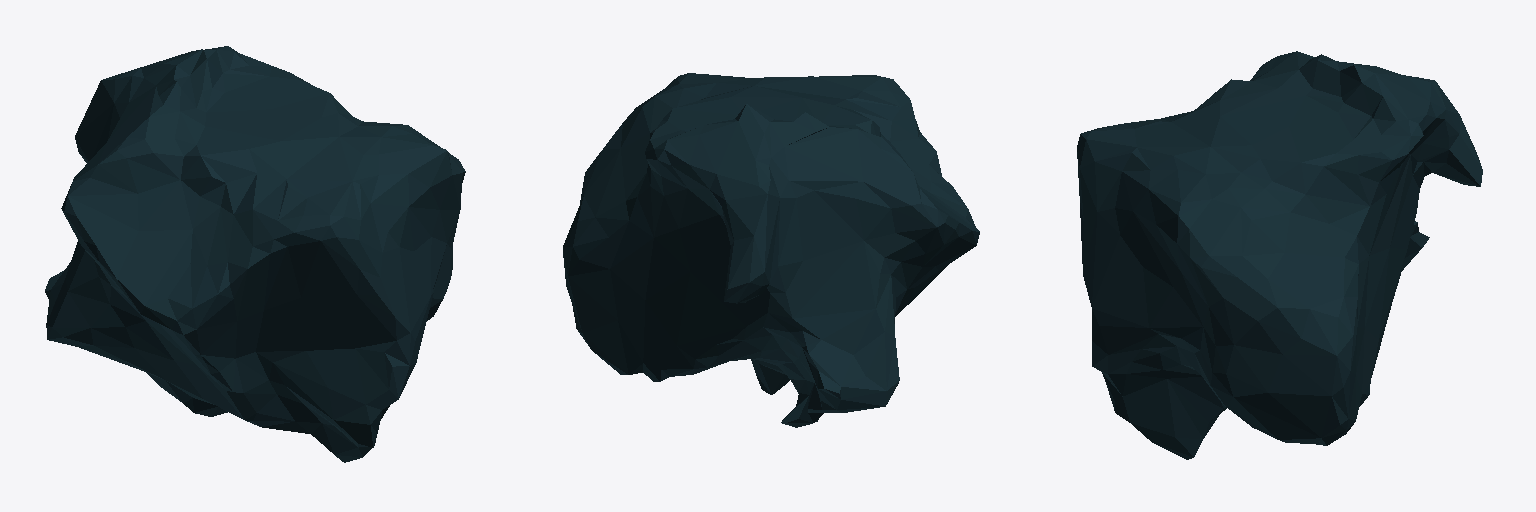
File: RockB.obj
3 renders of one model, left to right at view 1: azimuth 30°, elevation 25°; view 2: azimuth 150°, elevation 25°; view 3: azimuth 270°, elevation 25°, orthographic.
Visible parts, largest first — view 1: Rock_100_Geo3 Rocks_scatter_1; view 2: Rock_100_Geo3 Rocks_scatter_1; view 3: Rock_100_Geo3 Rocks_scatter_1.
Part boxes in pixels (bbox=[...]): Rock_100_Geo3 Rocks_scatter_1: bbox=[45, 46, 465, 462]; Rock_100_Geo3 Rocks_scatter_1: bbox=[563, 73, 979, 427]; Rock_100_Geo3 Rocks_scatter_1: bbox=[1077, 51, 1482, 459].
Size of the model in its own units: 0.0444 by 0.0423 by 0.0424.